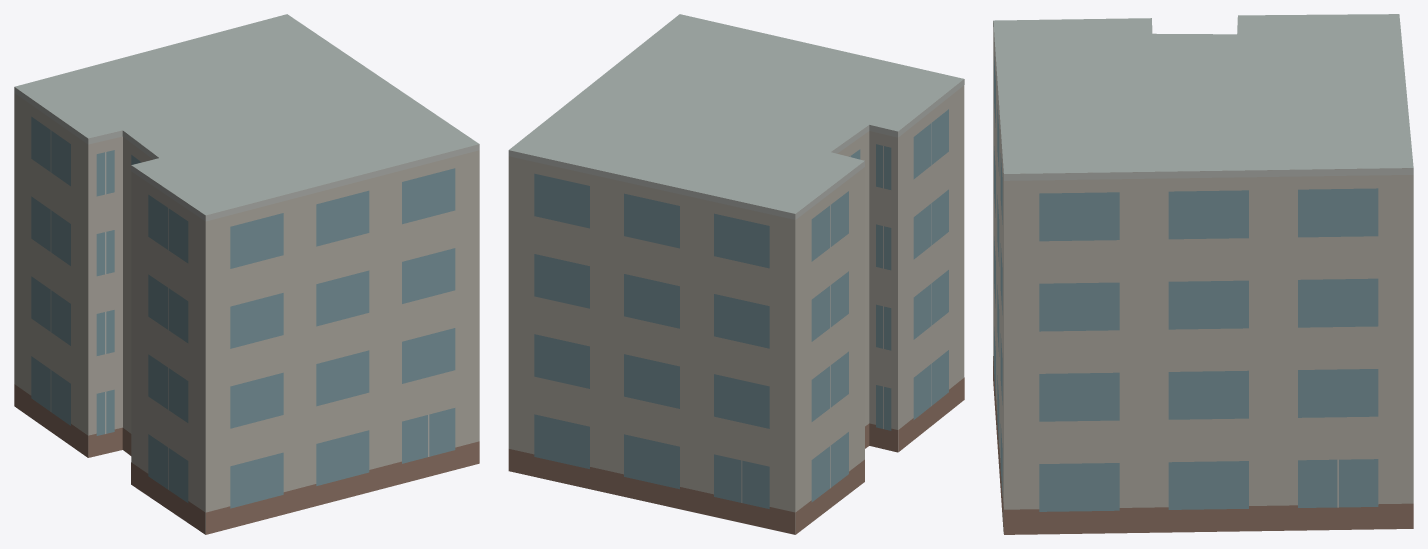
The model's file is survey-upis-32640856.glb.
3 views of the same model, side by side, from view 1: azimuth 30°, elevation 25°; view 2: azimuth 150°, elevation 25°; view 3: azimuth 270°, elevation 25° (orthographic). The views are drawn at different scales.
Visible parts, largest first — view 1: survey-upis-32640856.tmp; view 2: survey-upis-32640856.tmp; view 3: survey-upis-32640856.tmp.
Part boxes in pixels (<box>): survey-upis-32640856.tmp: <box>14,14,479,534</box>; survey-upis-32640856.tmp: <box>508,14,964,534</box>; survey-upis-32640856.tmp: <box>993,14,1413,534</box>.
Bounding box in the file's own units: 12.18 × 12.8 × 13.52.
